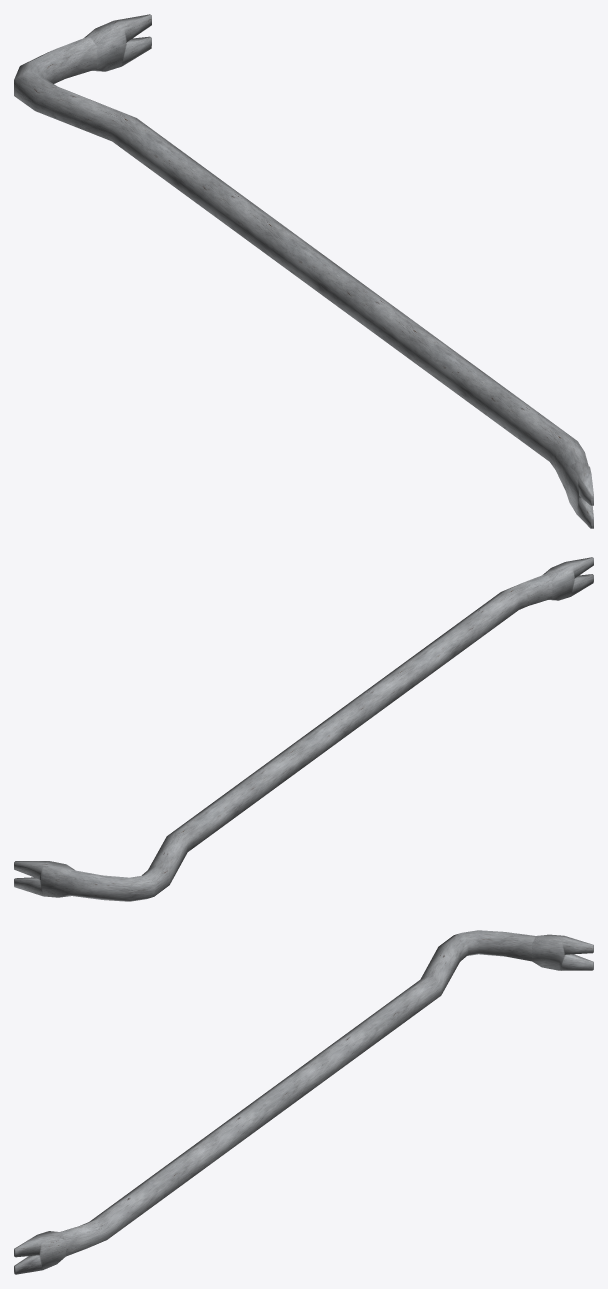
The model's file is Crowbar.glb.
3 renders of one model, top to bottom at view 1: azimuth 30°, elevation 25°; view 2: azimuth 150°, elevation 25°; view 3: azimuth 330°, elevation 25°, orthographic. The views are drawn at different scales.
Visible parts, largest first — view 1: Crowbar; view 2: Crowbar; view 3: Crowbar.
Part boxes in pixels (bbox=[...]): Crowbar: bbox=[14, 14, 593, 528]; Crowbar: bbox=[14, 557, 593, 901]; Crowbar: bbox=[14, 930, 593, 1274].
Bounding box in the file's own units: 0.1406 × 0.0342 × 0.9001.
Materials: 1 (1 with a texture image).
